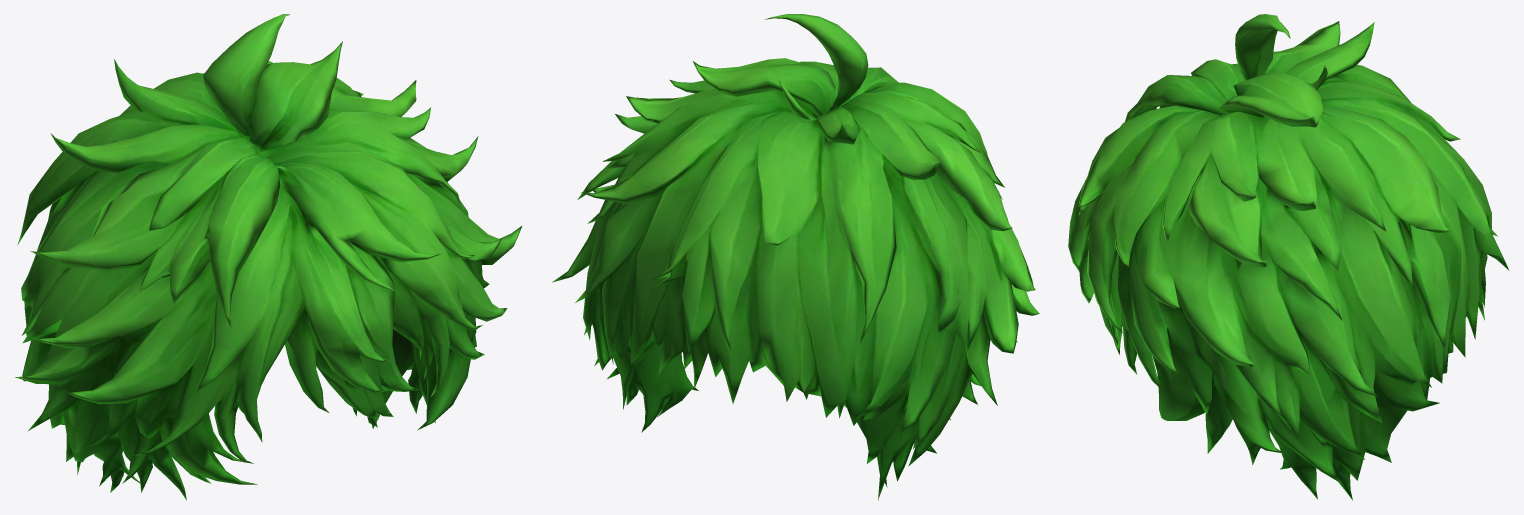
Rendered from hero-cheveux-court.glb.
3 renders of one model, left to right at view 1: azimuth 30°, elevation 25°; view 2: azimuth 150°, elevation 25°; view 3: azimuth 270°, elevation 25°, orthographic. The views are drawn at different scales.
Visible parts, largest first — view 1: geometry_0; view 2: geometry_0; view 3: geometry_0.
Part boxes in pixels (x1,y1,x2,y2): geometry_0: [15, 14, 521, 500]; geometry_0: [552, 14, 1039, 500]; geometry_0: [1068, 14, 1509, 500].
Bounding box in the file's own units: 0.958 × 0.8633 × 0.8076.
Materials: 1 (1 with a texture image).
